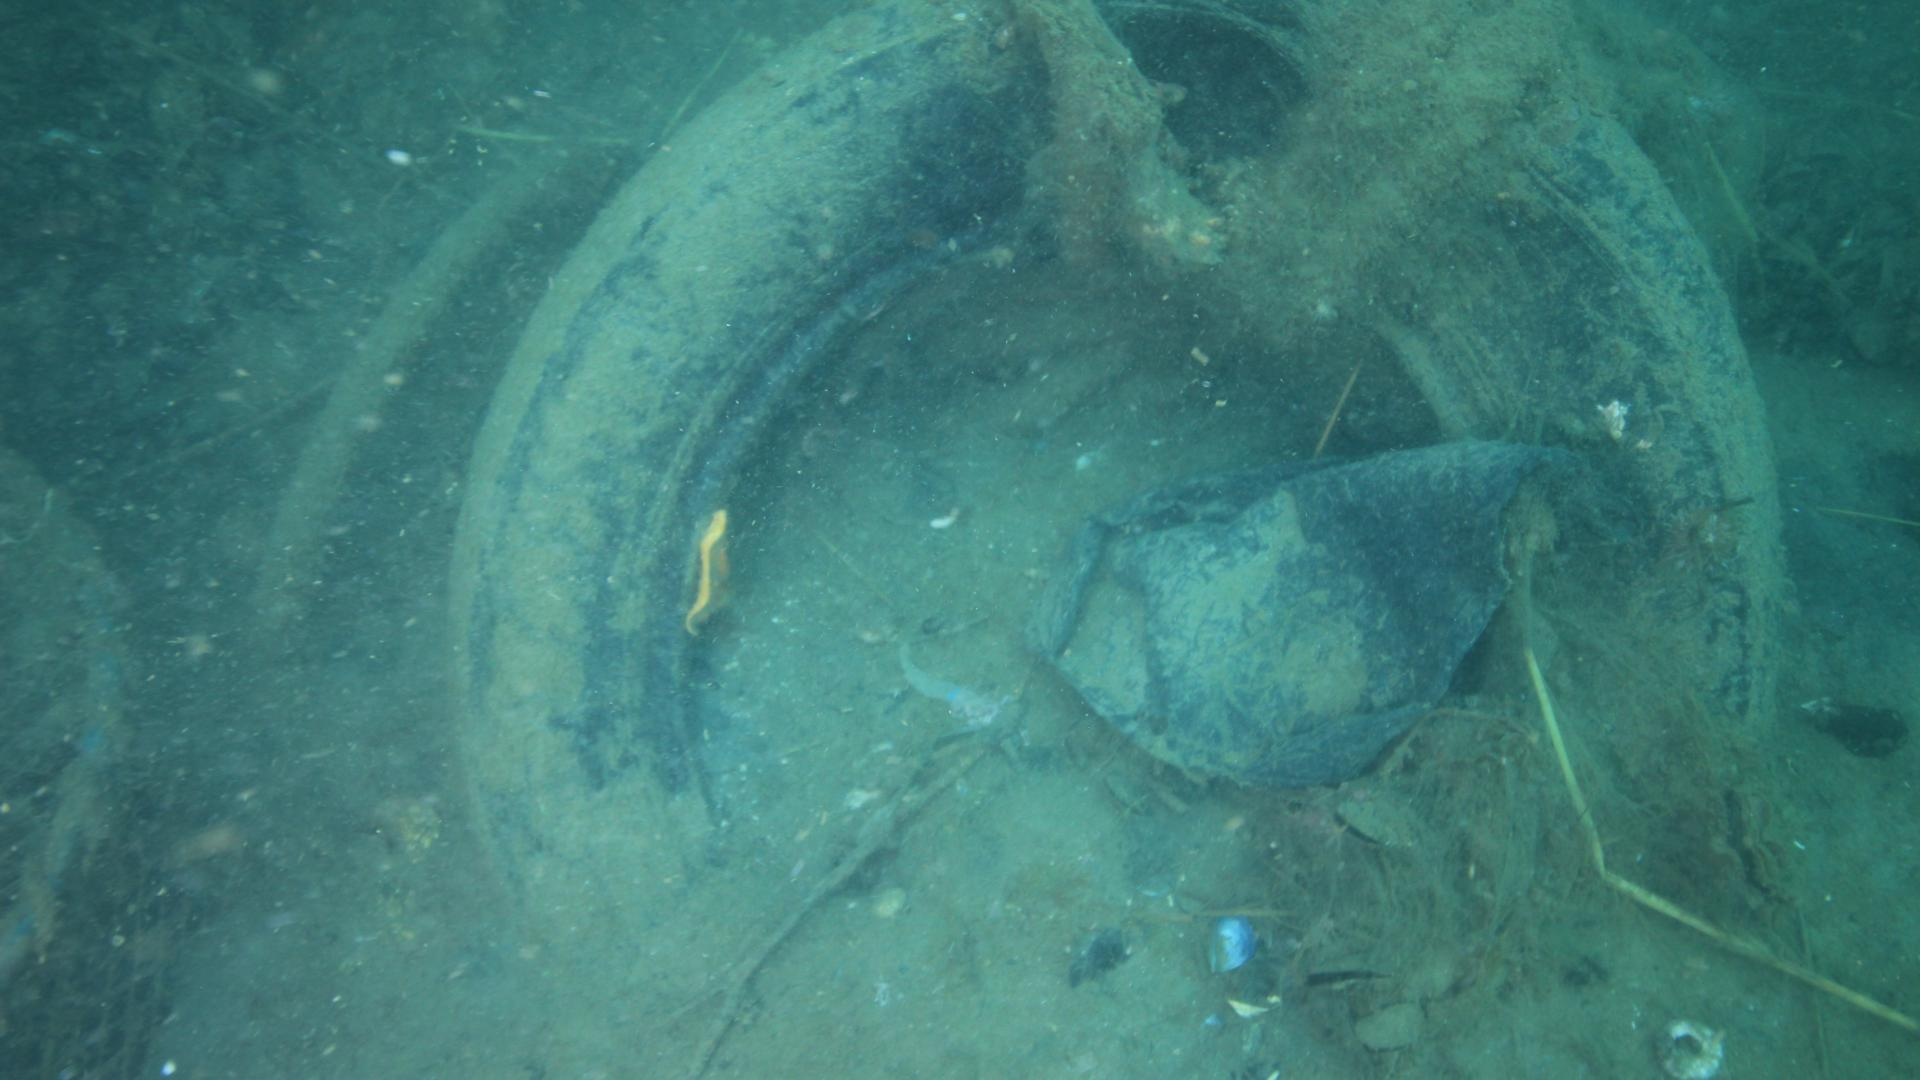tire: (443, 3, 1785, 935)
